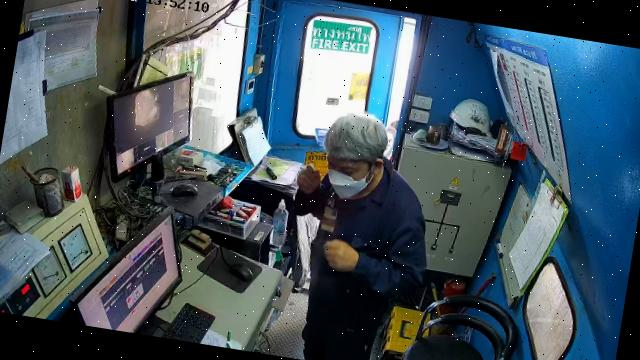Head: (326, 114, 388, 197)
People: (295, 116, 426, 359)
